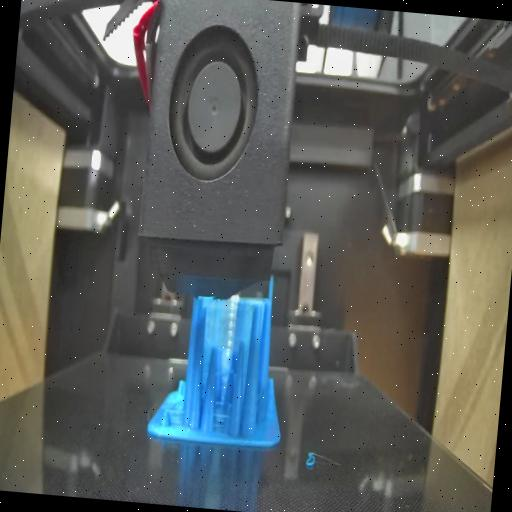stringing: (200, 298, 238, 377), (210, 406, 229, 438)
